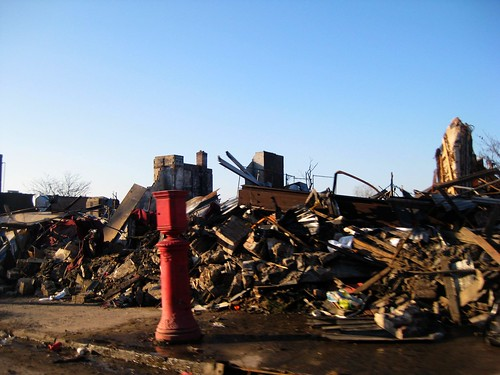sky: (1, 1, 484, 161)
trash: (5, 143, 493, 345)
